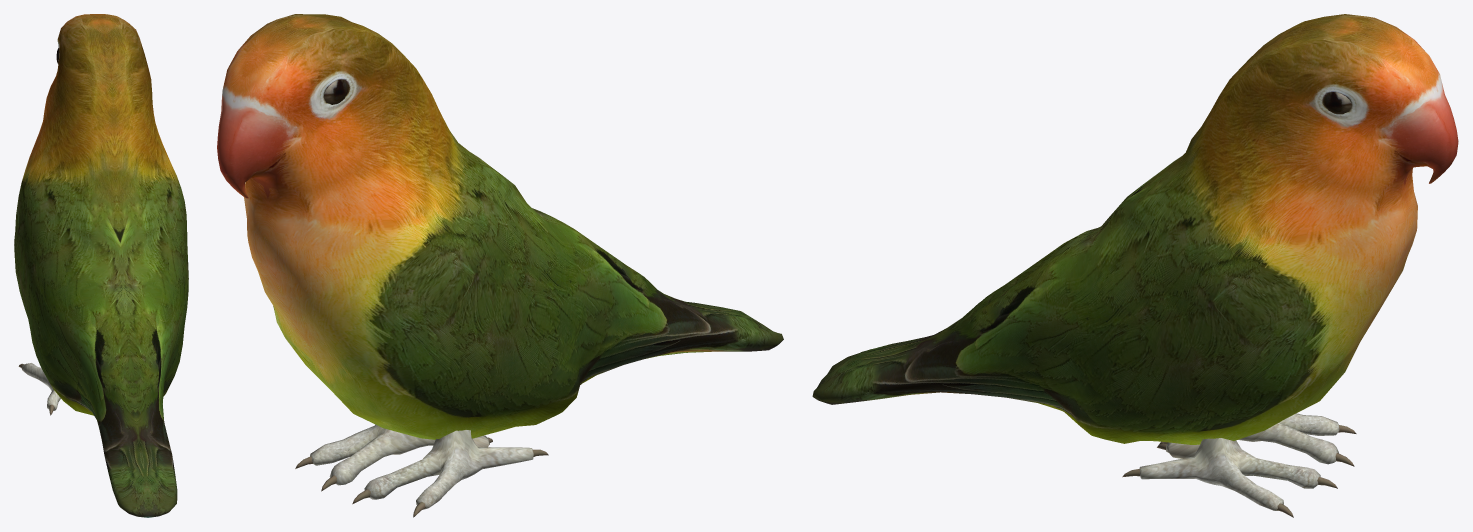
The model's file is agapornis.obj.
3 views of the same model, side by side, from view 1: azimuth 30°, elevation 25°; view 2: azimuth 150°, elevation 25°; view 3: azimuth 270°, elevation 25° (orthographic). The views are drawn at different scales.
Visible parts, largest first — view 1: Plexbird1; view 2: Plexbird1; view 3: Plexbird1.
Boxes of the visible parts, x1,y1,x2,y2 form: Plexbird1: (14, 14, 188, 517); Plexbird1: (217, 14, 783, 517); Plexbird1: (812, 14, 1458, 517).
Size of the model in its own units: 0.6082 by 0.9531 by 1.18.
1 material, 1 textured.
